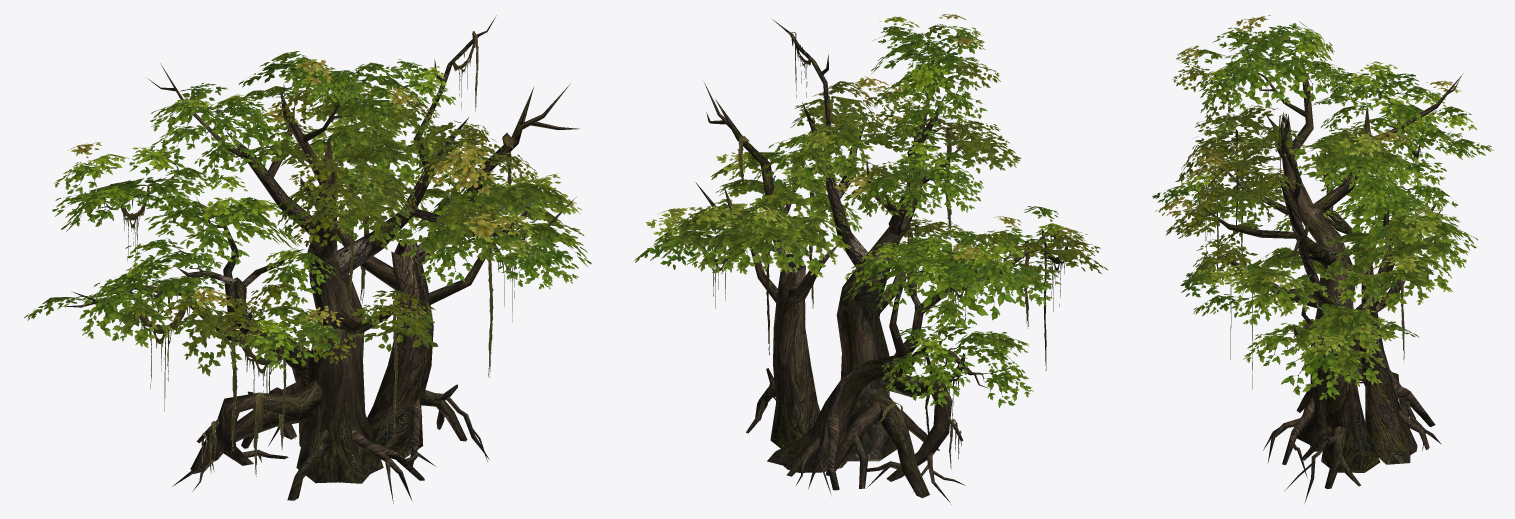
3 views of the same model, side by side, from view 1: azimuth 30°, elevation 25°; view 2: azimuth 150°, elevation 25°; view 3: azimuth 270°, elevation 25° (orthographic). The views are drawn at different scales.
Parts seen in each view (by area): view 1: byg_plant_tree007, Object09, Object07, Object08; view 2: byg_plant_tree007, Object07, Object09, Object08; view 3: byg_plant_tree007, Object07, Object09, Object08.
Part boxes in pixels (x1,y1,x2,y2): byg_plant_tree007: (24, 51, 591, 370); Object09: (67, 31, 537, 476); Object07: (62, 15, 579, 503); Object08: (190, 136, 489, 500); byg_plant_tree007: (634, 16, 1085, 407); Object07: (695, 18, 1052, 504); Object09: (697, 14, 1107, 469); Object08: (746, 127, 963, 498); byg_plant_tree007: (1152, 21, 1493, 399); Object07: (1202, 54, 1463, 472); Object09: (1155, 15, 1461, 397); Object08: (1280, 114, 1441, 503).
Bounding box in the file's own units: 1000 × 870 × 693.
